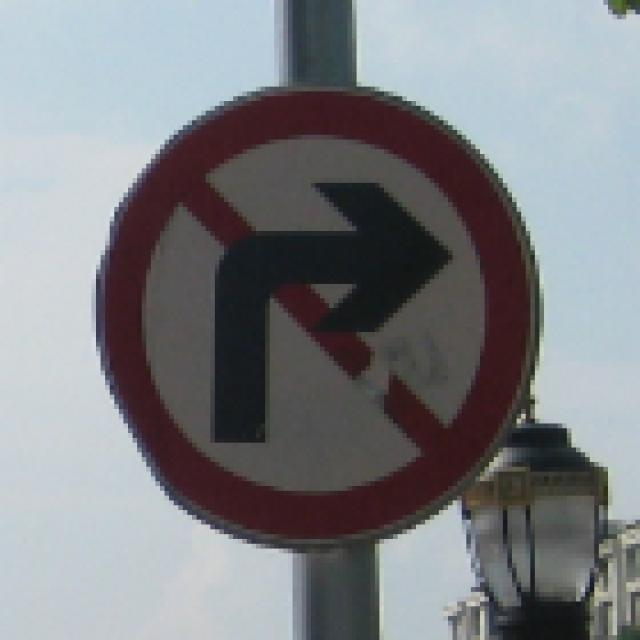Not that Direction: (105, 75, 546, 558)
